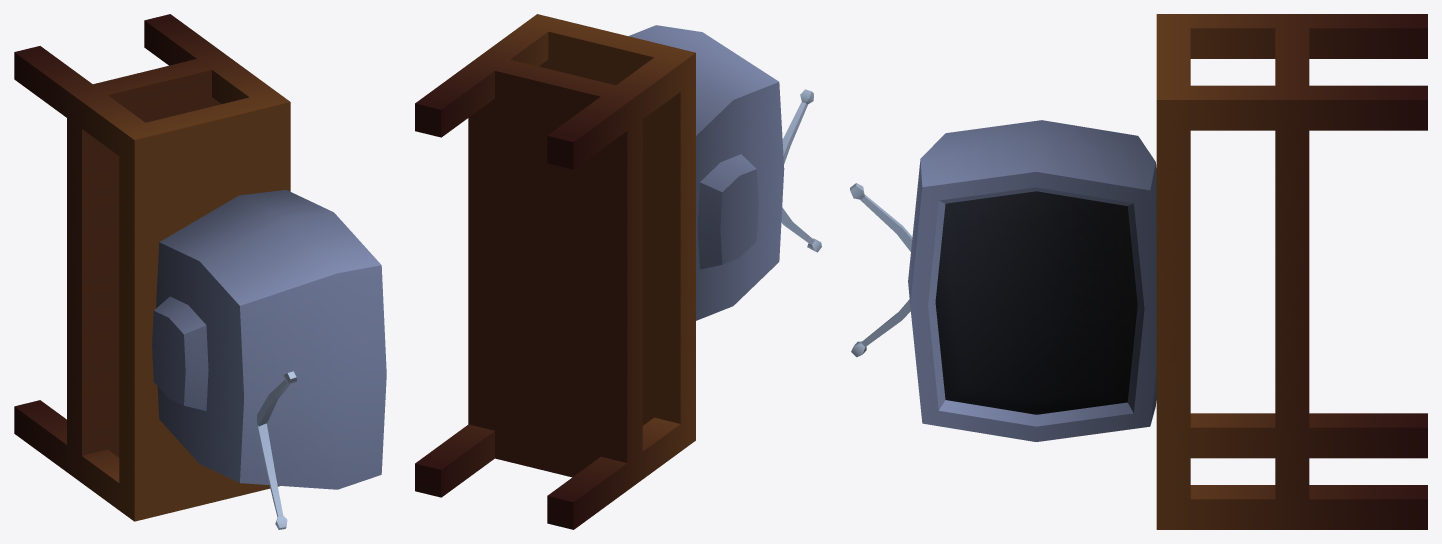
3 renders of one model, left to right at view 1: azimuth 30°, elevation 25°; view 2: azimuth 150°, elevation 25°; view 3: azimuth 270°, elevation 25°, orthographic. The views are drawn at different scales.
Visible parts, largest first — view 1: TV; view 2: TV; view 3: TV.
Boxes of the visible parts, <box> form: TV: <box>14,14,386,529</box>; TV: <box>415,14,821,529</box>; TV: <box>850,14,1427,529</box>.
Size of the model in its own units: 62.01 by 140 by 170.
